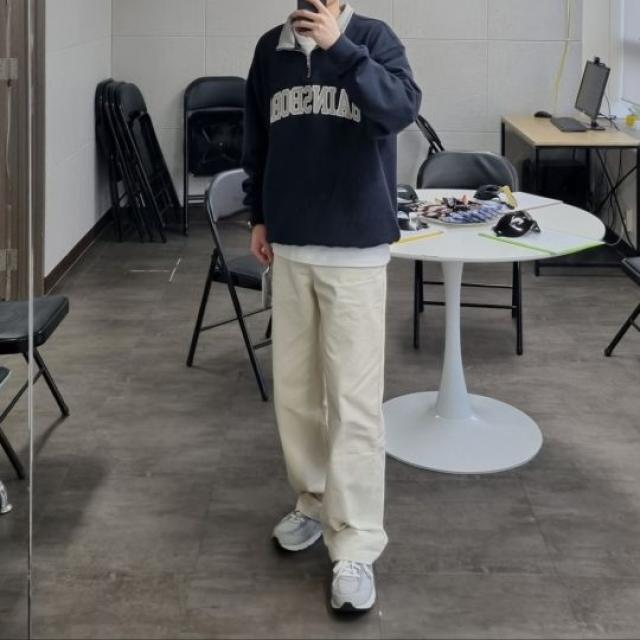cottonpants: (270, 254, 390, 570)
mtm: (248, 12, 426, 253)
